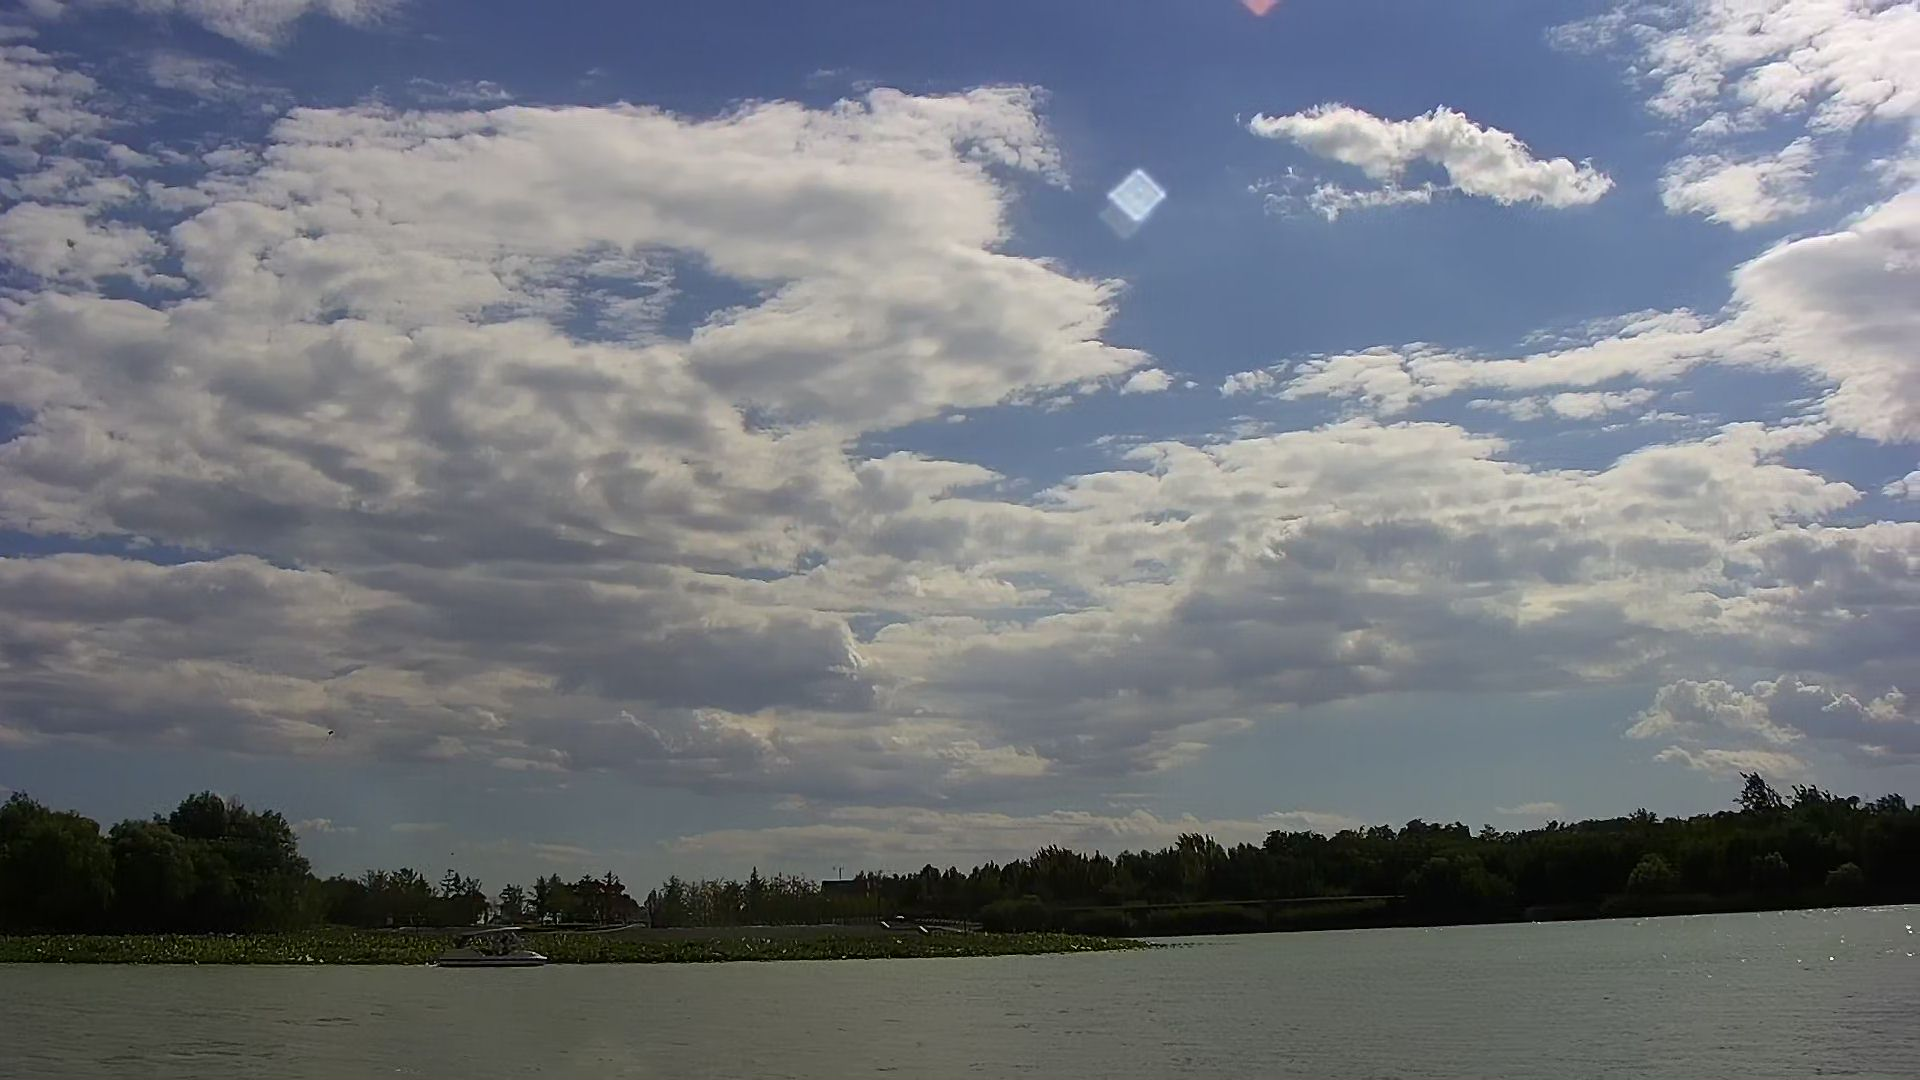boat: (436, 919, 545, 973)
